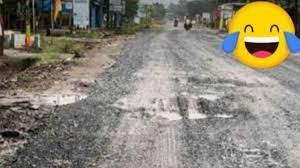Pothole: (26, 68, 97, 116), (154, 100, 252, 132), (182, 90, 227, 106), (202, 72, 240, 90)
